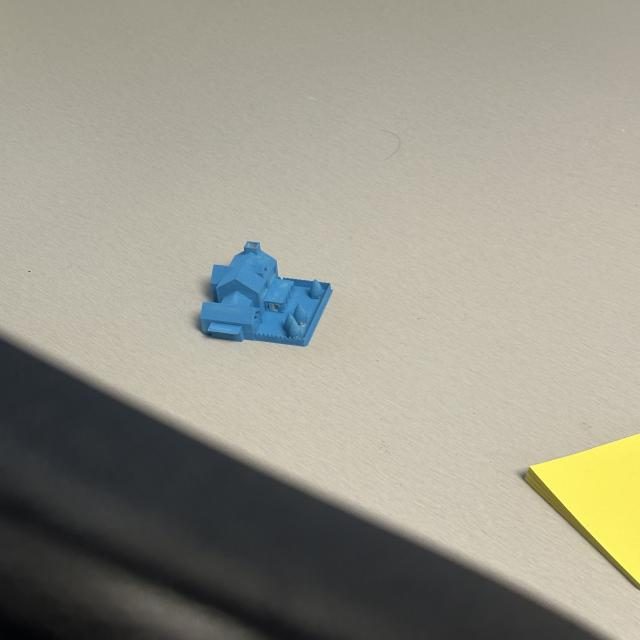house: (196, 238, 335, 348)
